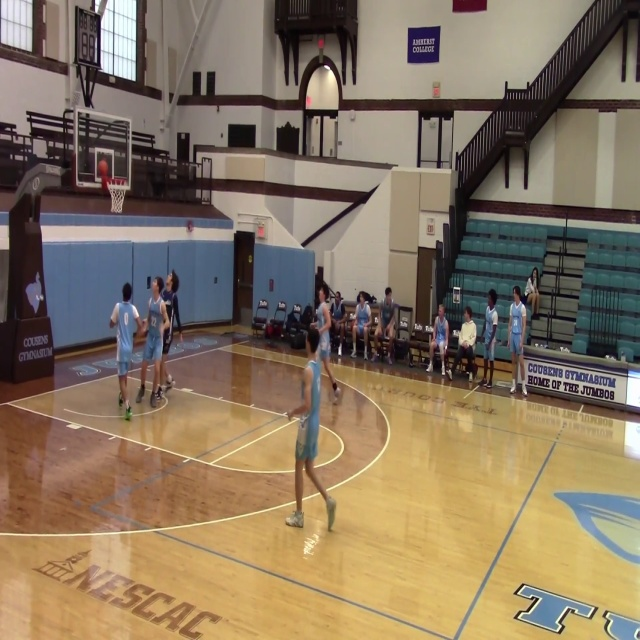Basketball: (98, 159, 108, 176), (317, 38, 324, 47)
